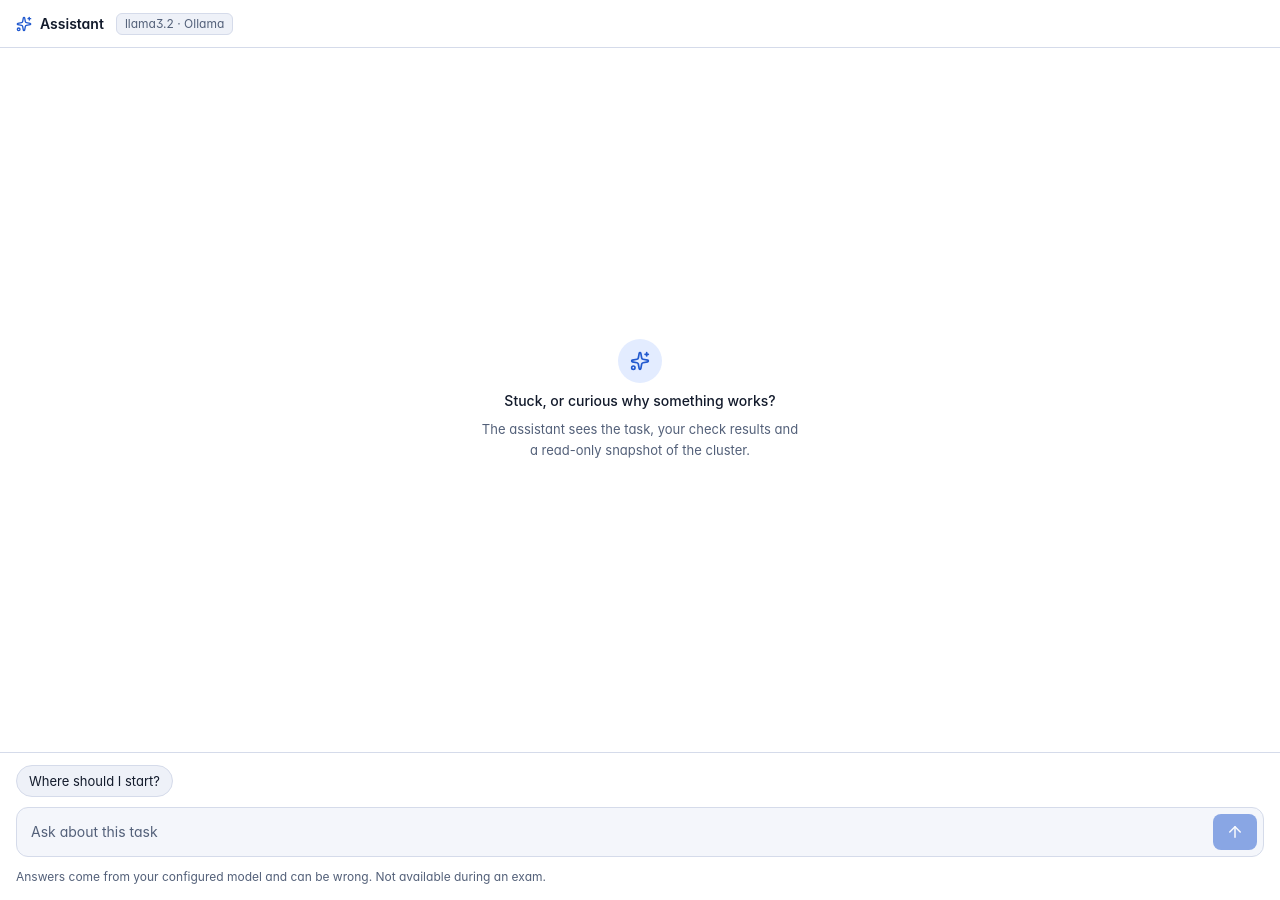
Test: AssistantPanel › shows how long an answer took and how long it is, and offers to copy it and to ask again for the last one
Type "one" into the text box named "Ask the assistant" at (618, 832), box [31,814,1205,850]
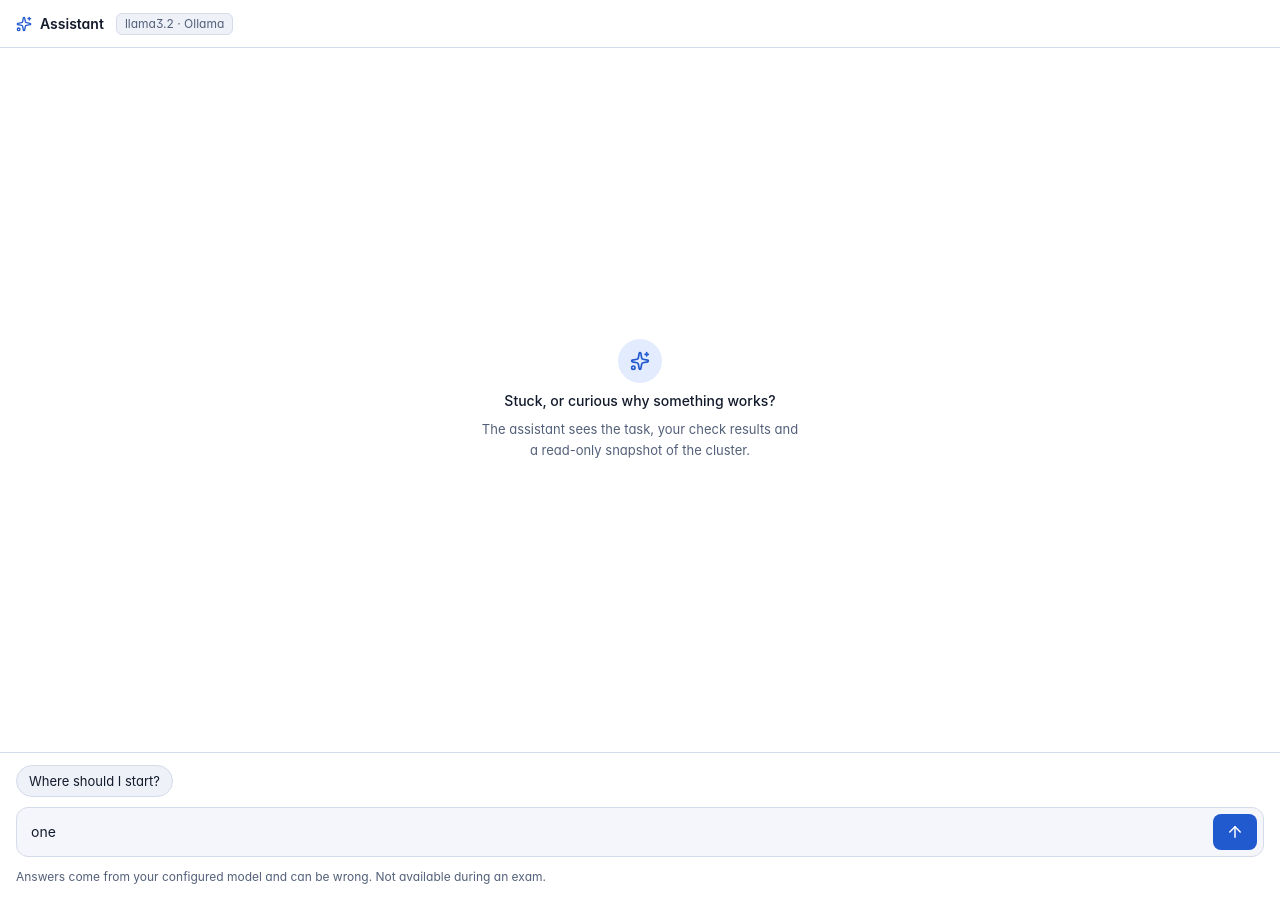
Press Enter in the text box named "Ask the assistant", box [31,814,1205,850]
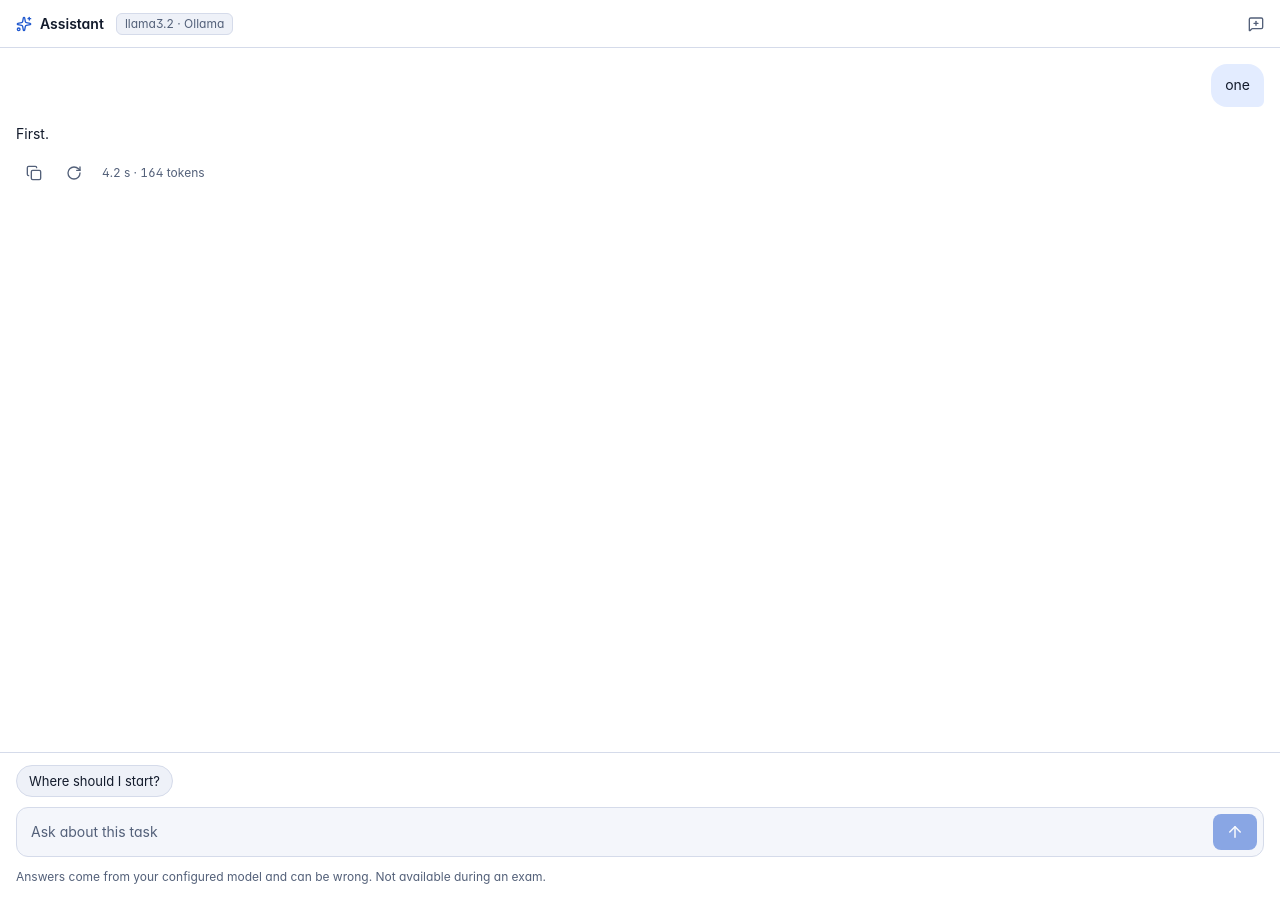
Expected: the button named "Send" is shown, [1213,814,1257,850]
Expected: the text "4.2 s · 164 tokens" is shown, [102,165,205,181]
Type "two" into the text box named "Ask the assistant" at (618, 832), box [31,814,1205,850]
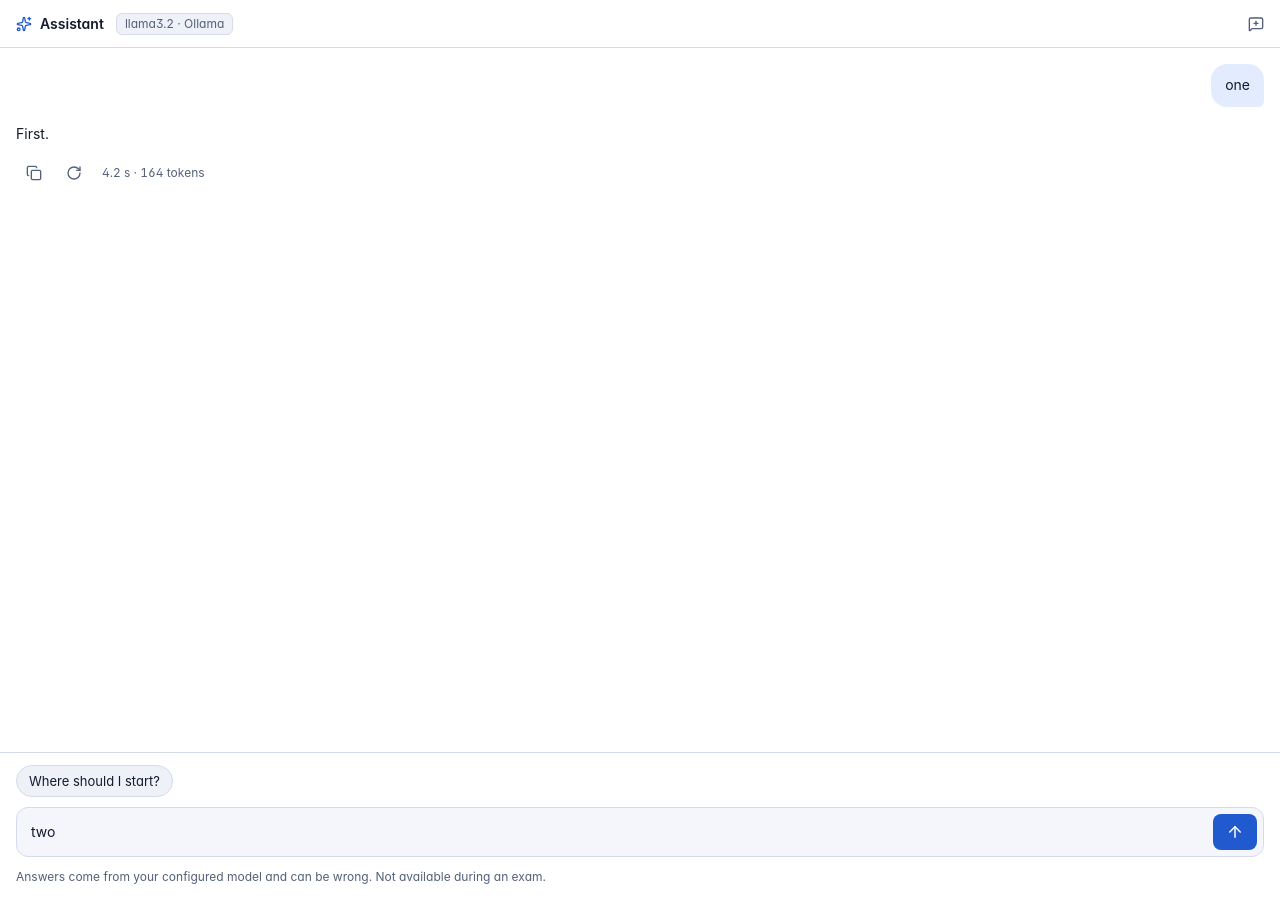
Press Enter in the text box named "Ask the assistant", box [31,814,1205,850]
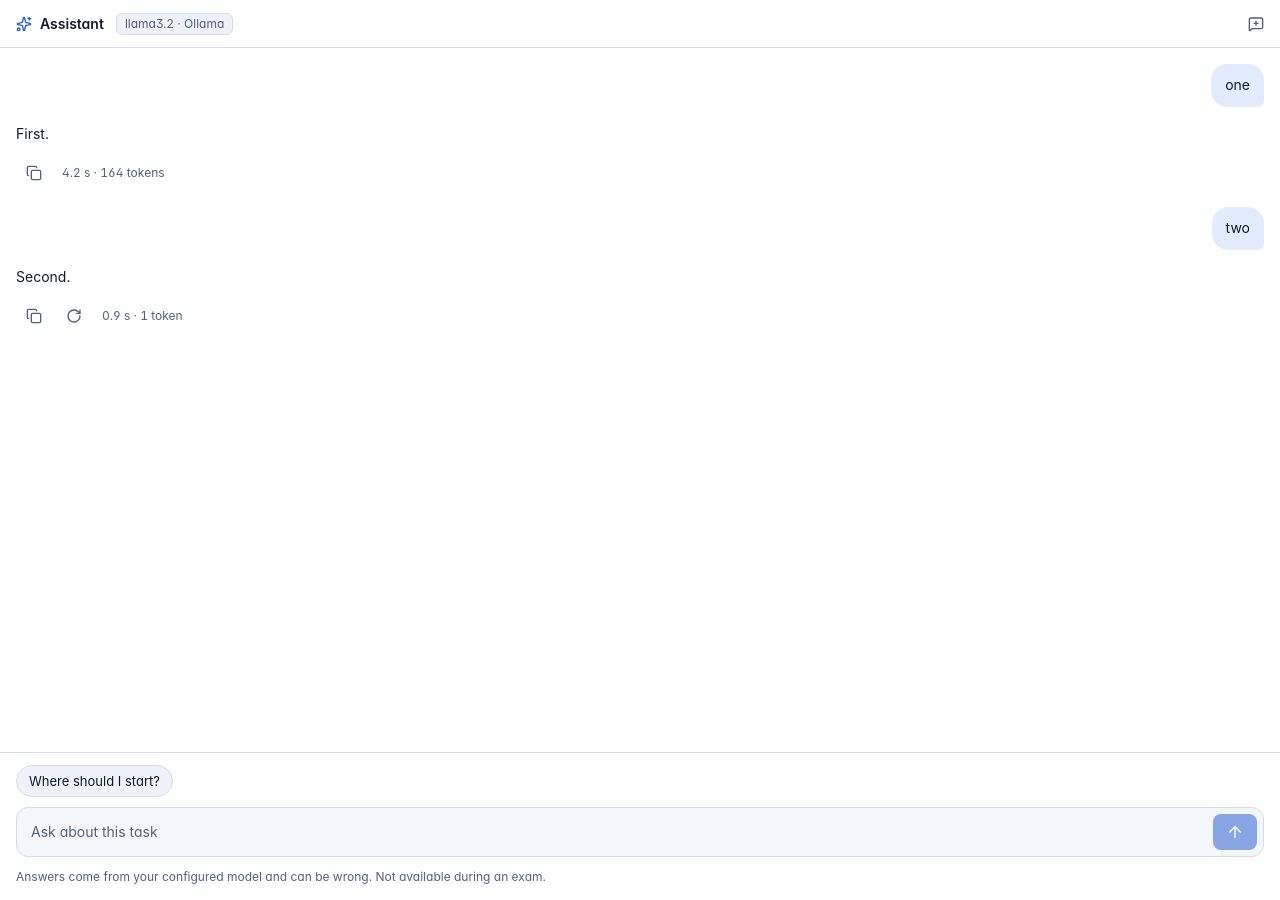
Expected: the text "0.9 s · 1 token" is shown, [102,308,183,324]
Expected: the number of buttons named "Copy answer" is 2, [16,155,52,191]; [16,298,52,334]
Expected: the number of buttons named "Ask again" is 1
Click the button named "Ask again" at (74, 316), box [56,298,92,334]
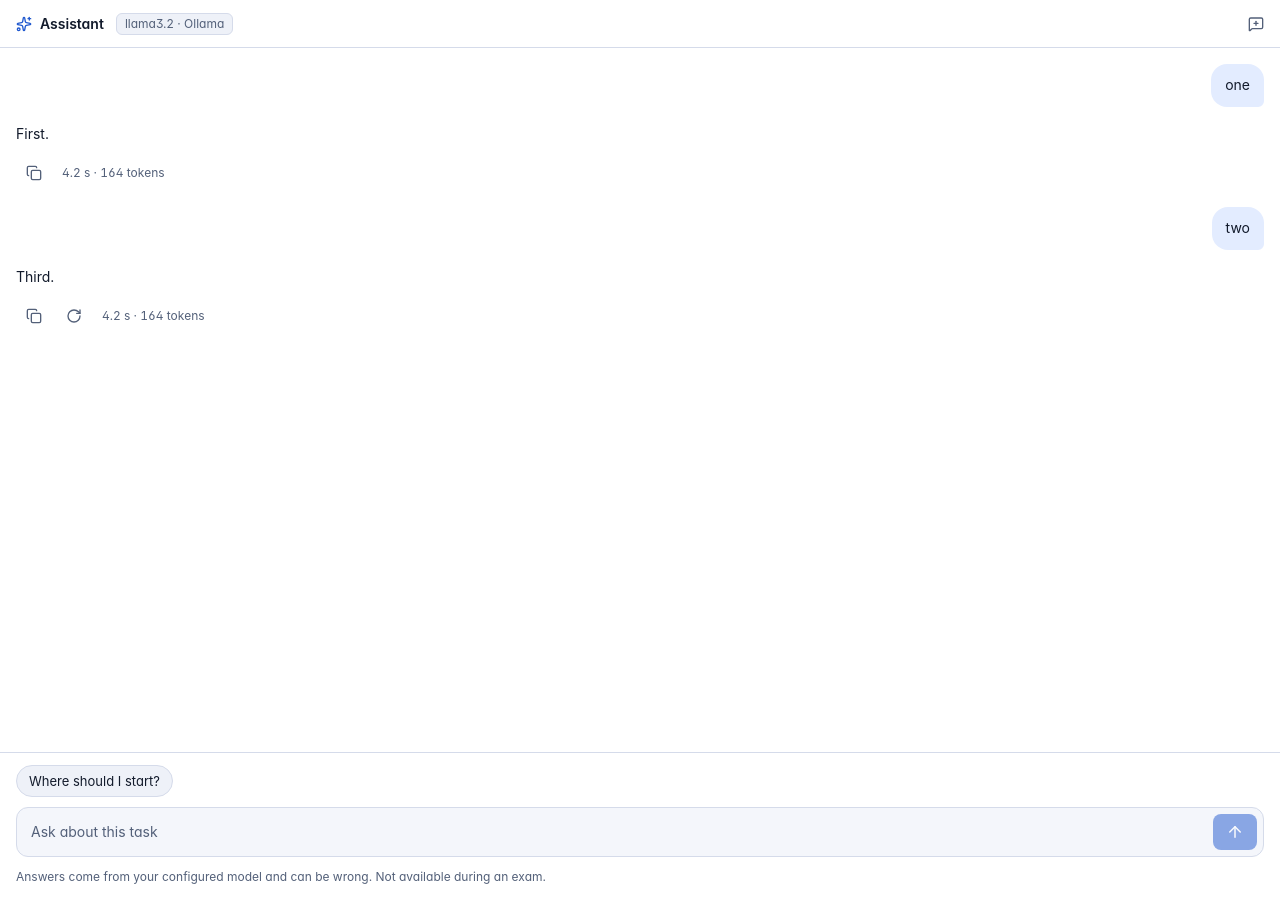
Expected: the text "Third." is shown, [16,268,54,285]
Expected: the text "Second." is gone
